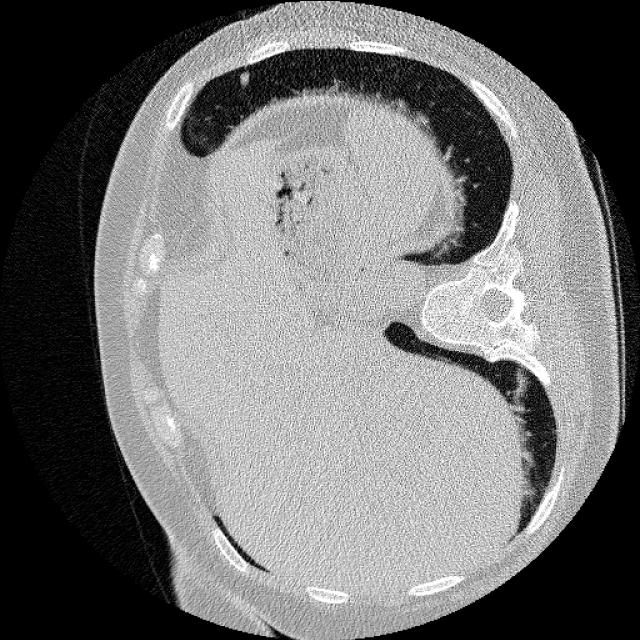nodule: (232, 66, 256, 92)
